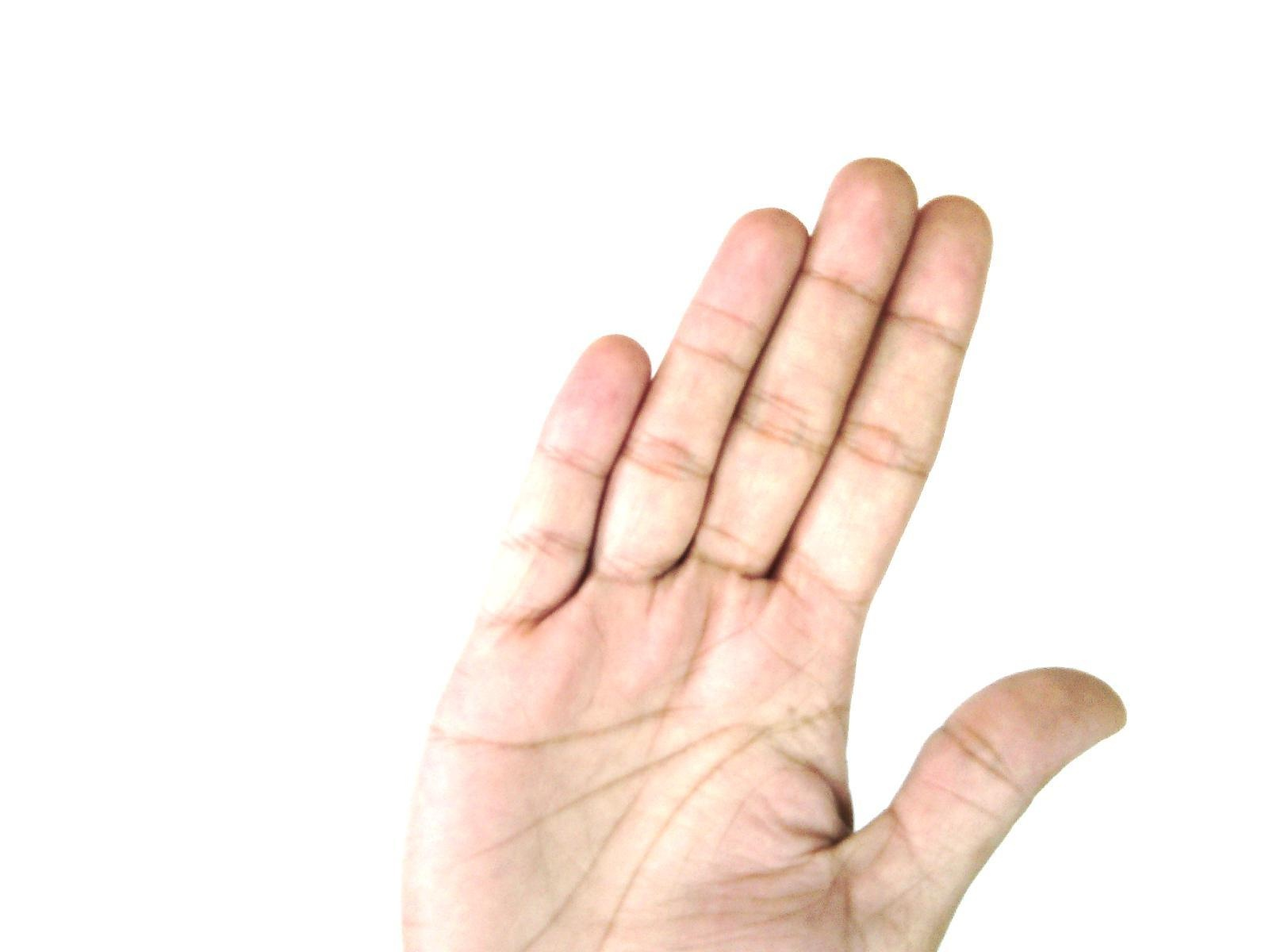open_palm: (397, 156, 1129, 952)
